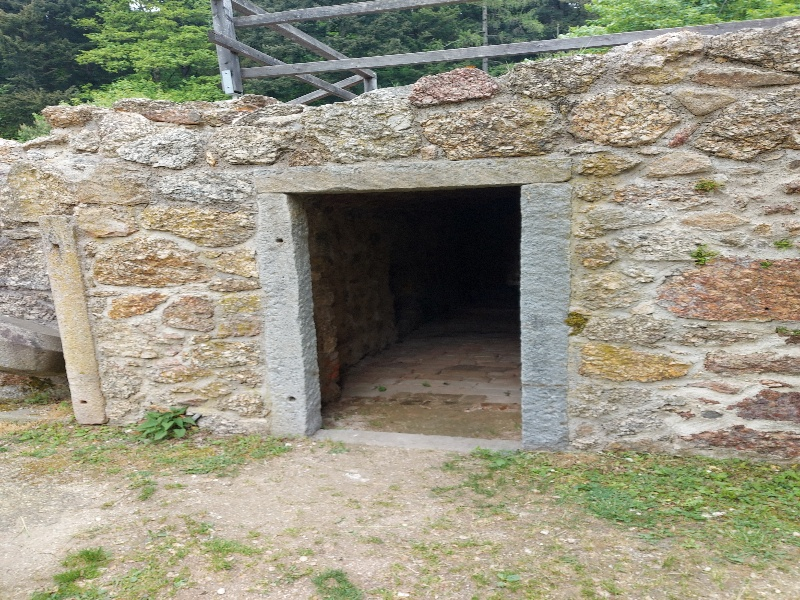door2: (248, 154, 588, 456)
